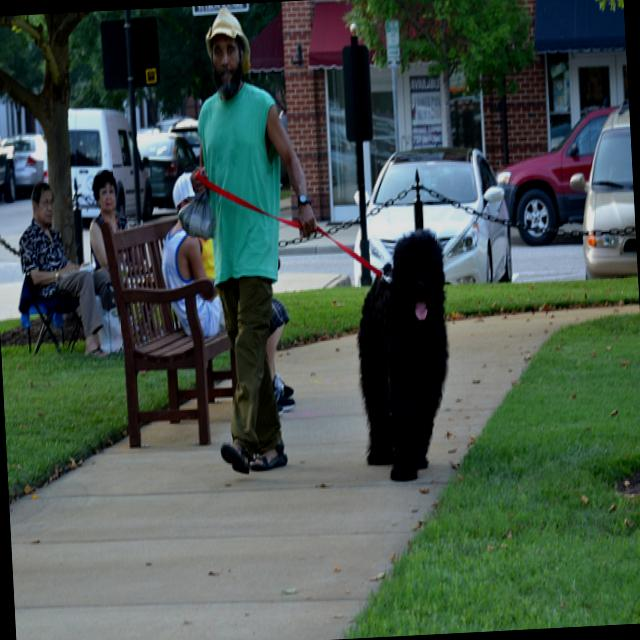Vehicle: (348, 146, 518, 296), (490, 102, 614, 249), (67, 106, 157, 224), (579, 97, 638, 273), (137, 130, 204, 211), (6, 134, 48, 189), (0, 120, 21, 204), (166, 116, 202, 164)
